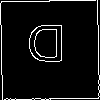D: (25, 24, 67, 72)
